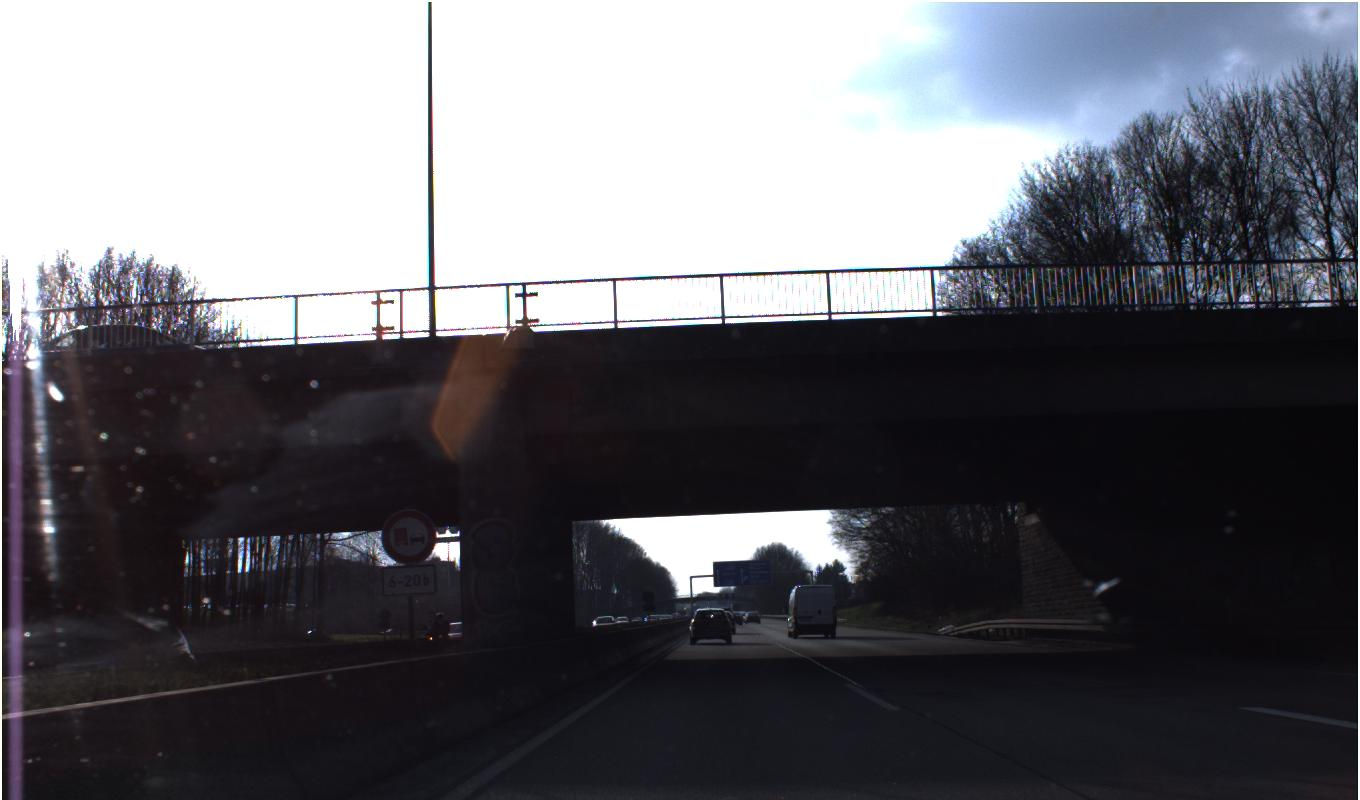prohibitory: (380, 507, 436, 565)
